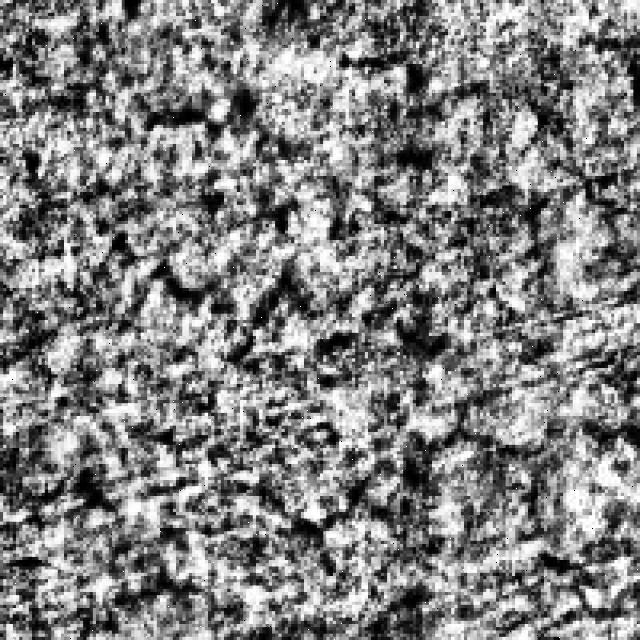Pitted_Surface: (58, 250, 470, 534), (138, 29, 540, 240)
